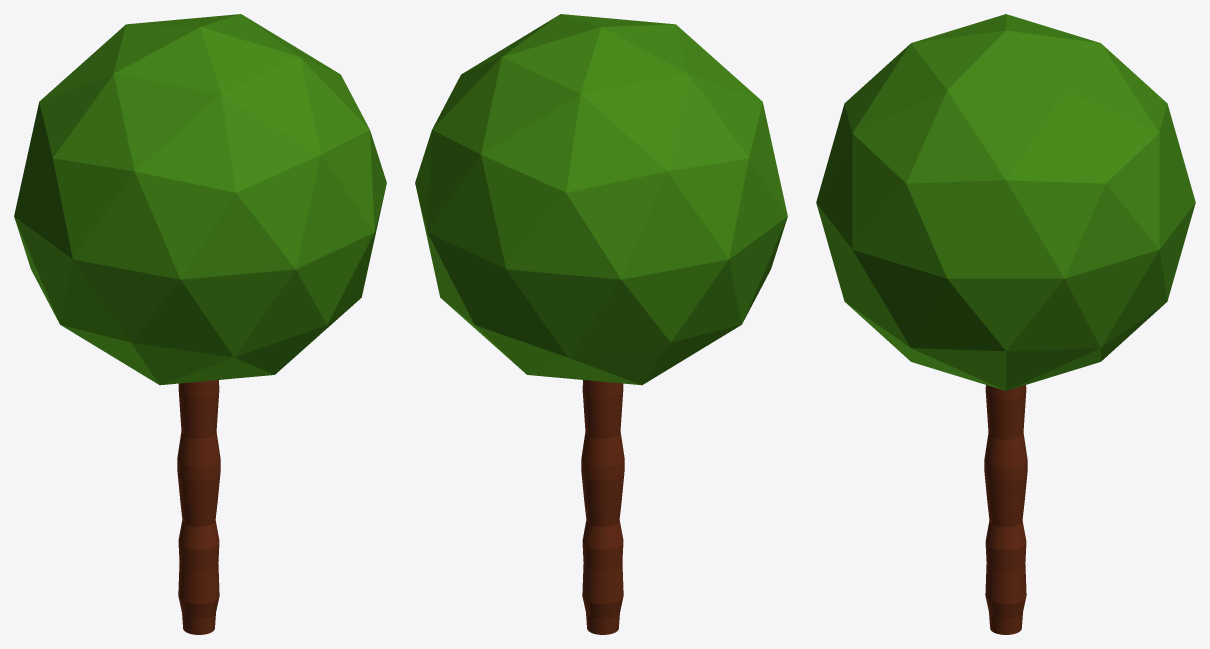
File: tree.fbx
3 renders of one model, left to right at view 1: azimuth 30°, elevation 25°; view 2: azimuth 150°, elevation 25°; view 3: azimuth 270°, elevation 25°, orthographic.
Parts seen in each view (by area): view 1: Cylinder; view 2: Cylinder; view 3: Cylinder.
Part boxes in pixels (x1=…): Cylinder: x1=14, y1=14, x2=386, y2=634; Cylinder: x1=415, y1=14, x2=787, y2=634; Cylinder: x1=816, y1=14, x2=1195, y2=634.
Size of the model in its own units: 10 by 18.28 by 10.51.
